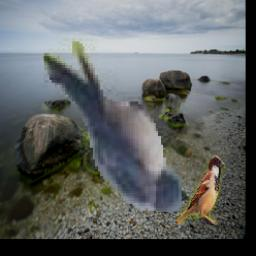Sparrow: (177, 156, 226, 225)
Swallow: (43, 38, 182, 212)
